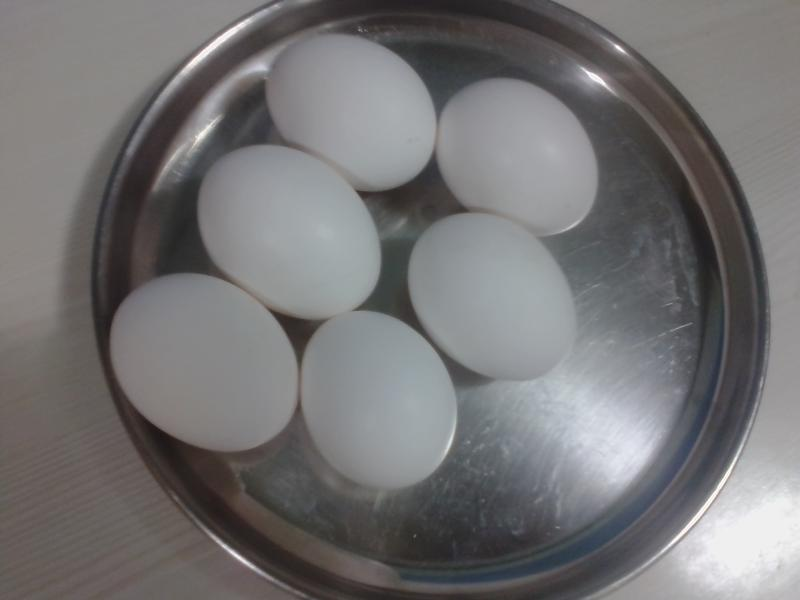egg: (307, 308, 458, 487)
